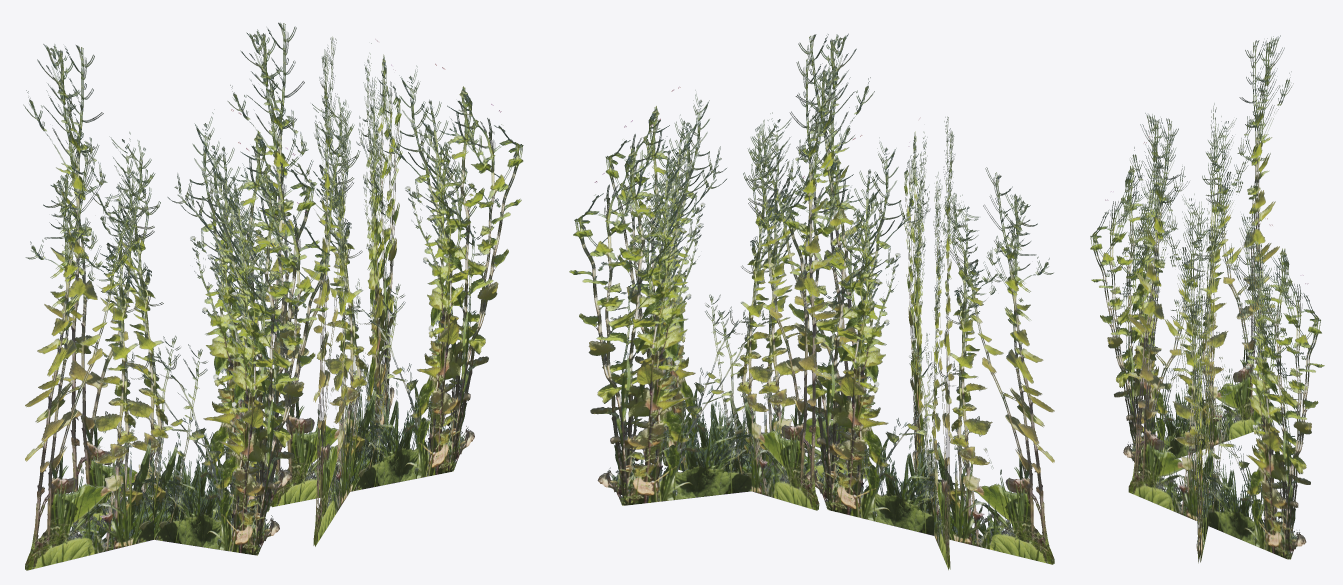
File: Plant_TallGrass.FBX
3 renders of one model, left to right at view 1: azimuth 30°, elevation 25°; view 2: azimuth 150°, elevation 25°; view 3: azimuth 270°, elevation 25°, orthographic. The views are drawn at different scales.
Visible parts, largest first — view 1: Plant_TallGrass; view 2: Plant_TallGrass; view 3: Plant_TallGrass.
Part boxes in pixels (<box>): Plant_TallGrass: <box>23,22,523,570</box>; Plant_TallGrass: <box>569,33,1054,570</box>; Plant_TallGrass: <box>1090,35,1324,563</box>.
Size of the model in its own units: 111 by 106 by 58.58.
